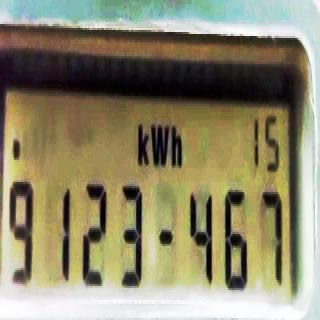-: (158, 221, 174, 255), (12, 136, 21, 164)
1: (58, 177, 73, 286), (252, 110, 260, 174)
2: (81, 172, 108, 295)
3: (118, 180, 144, 296)
4: (188, 180, 217, 293)
5: (264, 110, 281, 182)
6: (222, 180, 248, 299)
7: (259, 180, 285, 292)
9: (7, 173, 34, 290)
